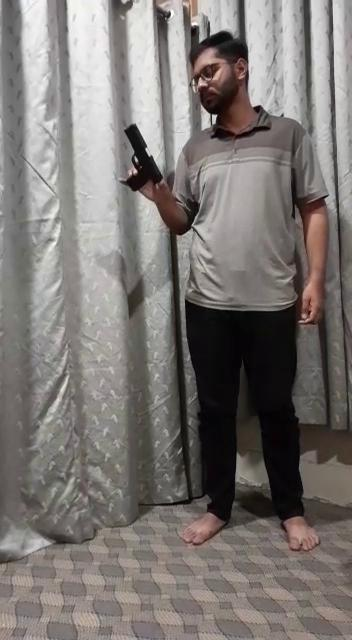criminal: (116, 30, 329, 553)
weapon: (117, 119, 169, 194)
